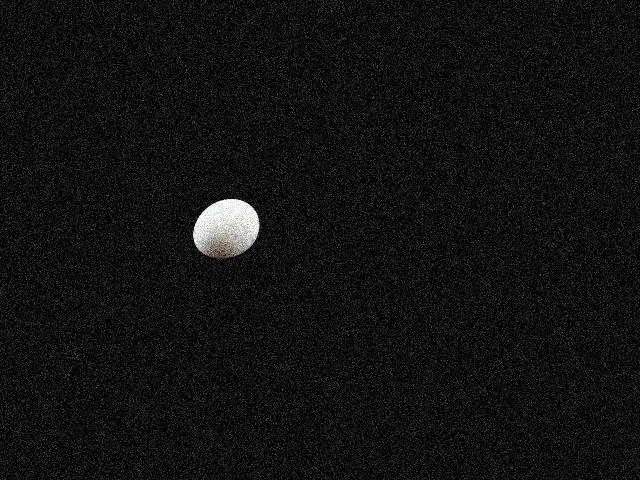egg: (192, 199, 258, 258)
